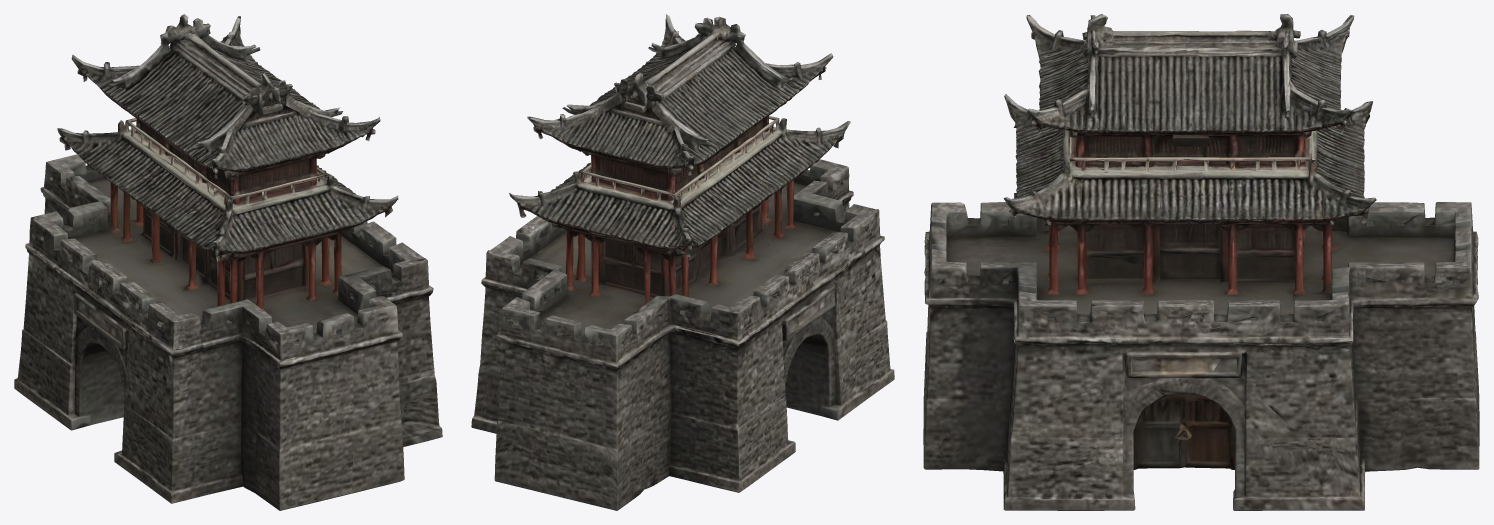
File: gate-mid.glb
The picture shows the model from 3 angles, left to right: view 1: azimuth 30°, elevation 25°; view 2: azimuth 150°, elevation 25°; view 3: azimuth 270°, elevation 25°; orthographic projection. The views are drawn at different scales.
Bounding box in the file's own units: 0.6493 × 0.8346 × 0.9999.
Materials: 1 (1 with a texture image).
